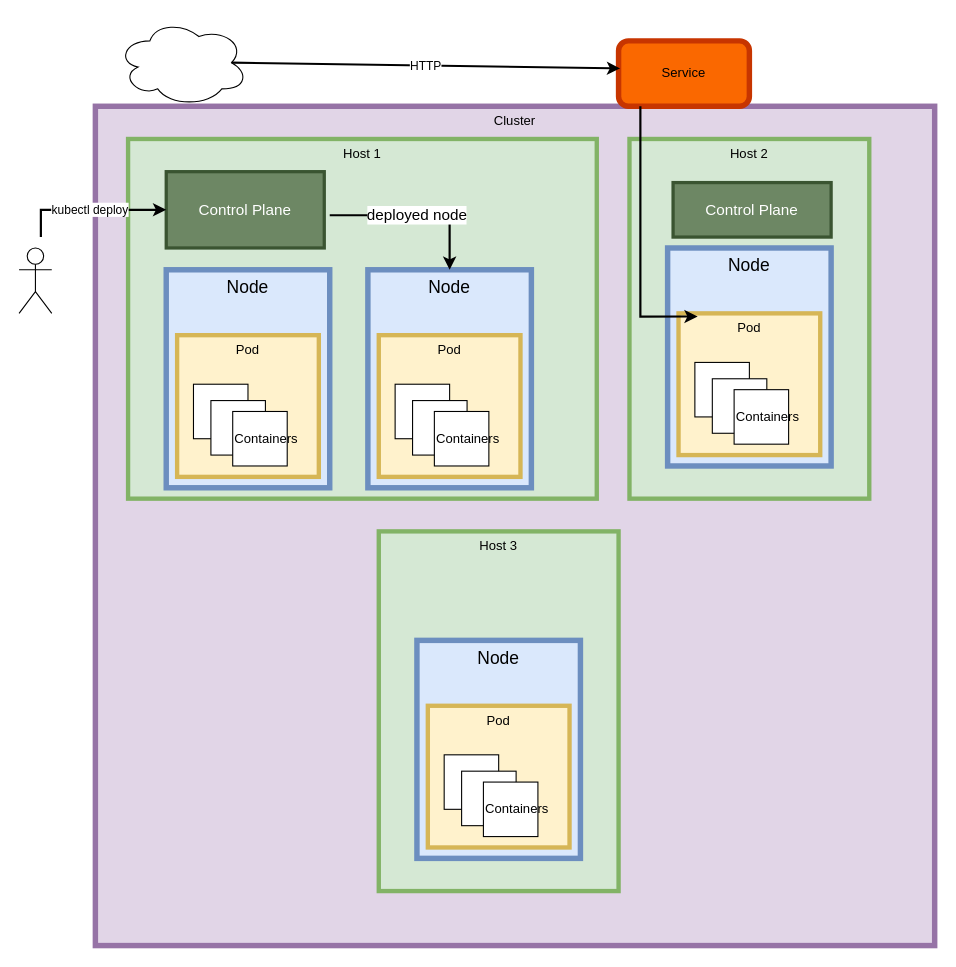
The diagram is 956 pixels wide and 967 high, and some of its shapes have lost their labels. The centre of each missing label's shape, as x and y in pixels:
"Internet" goes at pixel 182 62.
"User" goes at pixel 35 280.
